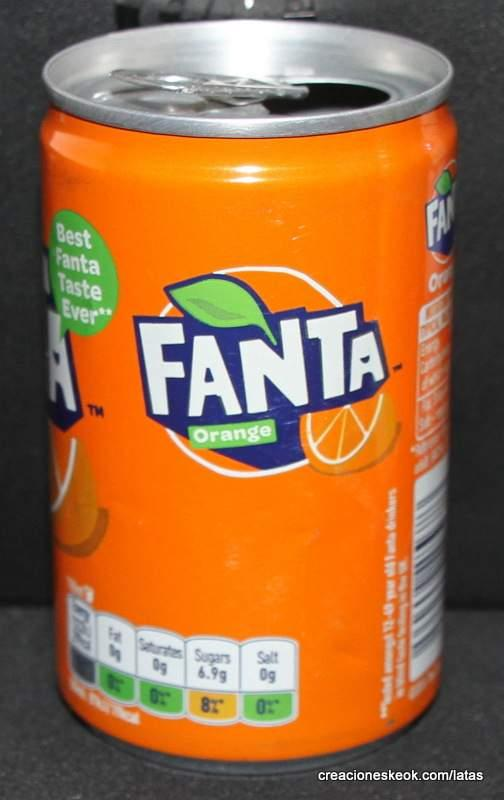metal: (41, 19, 458, 764)
